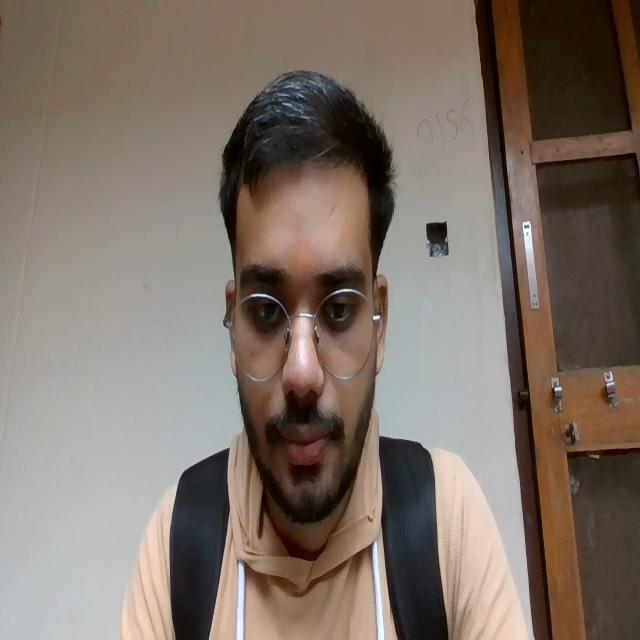awake: (243, 255, 365, 465)
